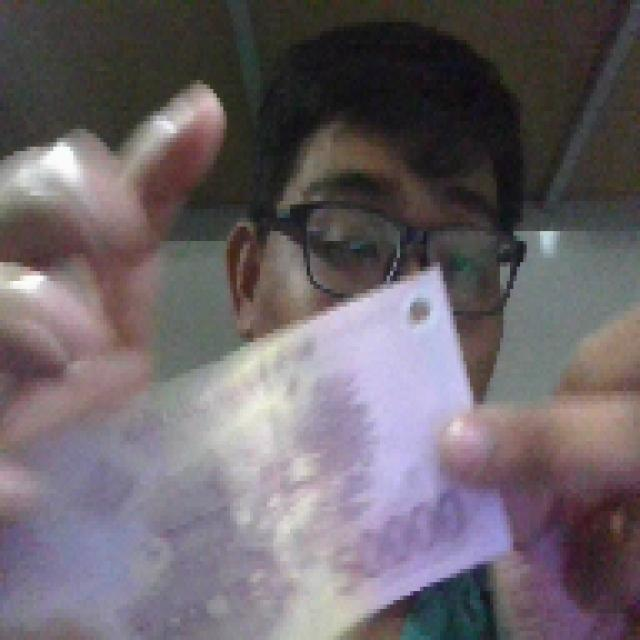50 000 VND: (0, 258, 517, 636)
